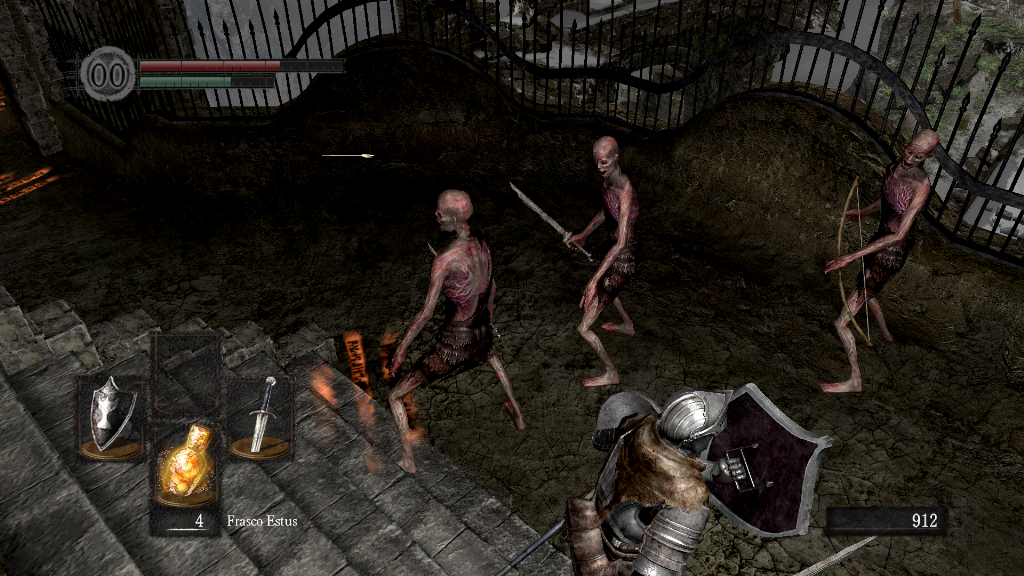health: (138, 58, 343, 71)
hollow: (392, 181, 529, 479), (821, 129, 940, 401), (562, 135, 642, 387)
humanity: (80, 45, 136, 102)
player: (479, 385, 883, 576)
souls: (825, 506, 945, 536)
stamina: (138, 74, 274, 88)
